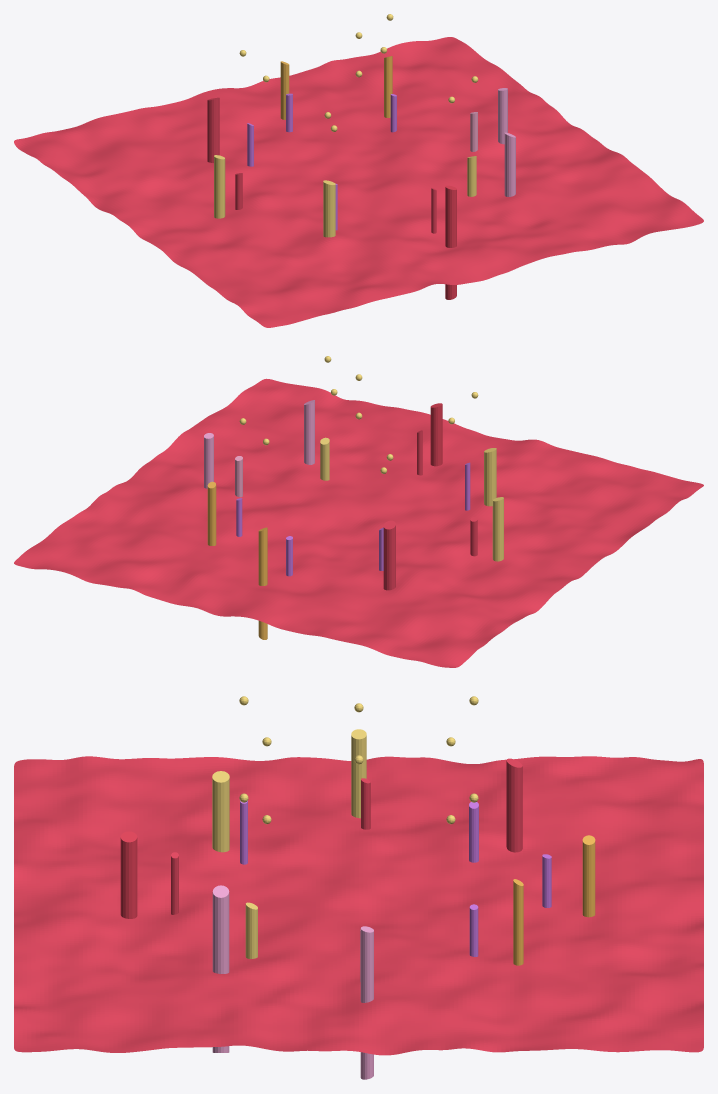
3 views of the same model, one above another, from view 1: azimuth 30°, elevation 25°; view 2: azimuth 150°, elevation 25°; view 3: azimuth 270°, elevation 25° (orthographic). The views are drawn at different scales.
Visible parts, largest first — view 1: GaudiFloor, GaudiColumn_15, GaudiColumn_9, GaudiColumn_10, GaudiColumn_13, GaudiColumn_11, GaudiColumn_12, GaudiColumn_8; view 2: GaudiFloor, GaudiColumn_9, GaudiColumn_15, GaudiColumn_13, GaudiColumn_14, GaudiColumn_11, GaudiColumn_10, GaudiColumn_8, GaudiColumn_12; view 3: GaudiFloor, GaudiColumn_10, GaudiColumn_9, GaudiColumn_15, GaudiColumn_11, GaudiColumn_12, GaudiColumn_14, GaudiColumn_13, GaudiColumn_8, GaudiColumn_2, GaudiColumn_1.
Boxes of the visible parts, box(x1,y1,x2,y2) form: GaudiFloor: box(14, 37, 703, 327); GaudiColumn_15: box(445, 185, 456, 299); GaudiColumn_9: box(207, 97, 219, 162); GaudiColumn_10: box(504, 132, 515, 196); GaudiColumn_13: box(214, 155, 225, 218); GaudiColumn_11: box(323, 180, 335, 237); GaudiColumn_12: box(498, 88, 507, 144); GaudiColumn_8: box(384, 56, 392, 117); GaudiFloor: box(14, 378, 703, 667); GaudiColumn_9: box(383, 520, 395, 590); GaudiColumn_15: box(430, 403, 442, 466); GaudiColumn_13: box(492, 497, 503, 561); GaudiColumn_14: box(258, 527, 267, 639); GaudiColumn_11: box(484, 448, 496, 506); GaudiColumn_10: box(304, 400, 314, 464); GaudiColumn_8: box(207, 481, 216, 545); GaudiColumn_12: box(204, 433, 213, 488); GaudiFloor: box(14, 756, 703, 1055); GaudiColumn_10: box(212, 885, 229, 1052); GaudiColumn_9: box(506, 758, 522, 852); GaudiColumn_15: box(120, 831, 137, 918); GaudiColumn_11: box(212, 771, 229, 852); GaudiColumn_12: box(360, 926, 373, 1079); GaudiColumn_14: box(582, 835, 595, 917); GaudiColumn_13: box(351, 729, 366, 818); GaudiColumn_8: box(513, 879, 523, 965); GaudiColumn_2: box(245, 902, 257, 958); GaudiColumn_1: box(469, 802, 478, 862).
Size of the model in its own units: 3000 by 1388 by 3000.
